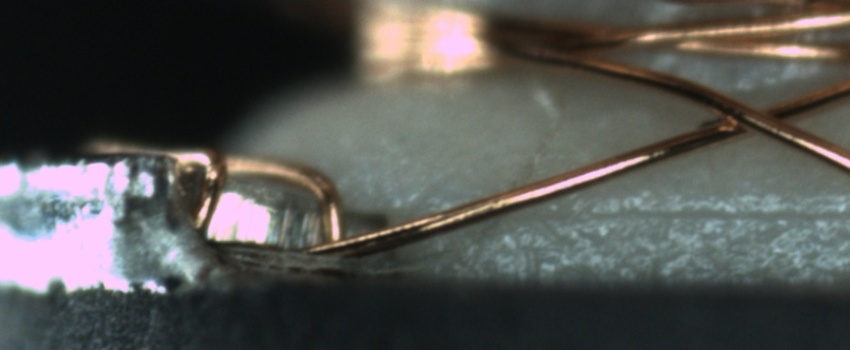CL: (694, 92, 816, 142)
DL: (536, 181, 850, 247)
TE: (89, 134, 358, 267)
